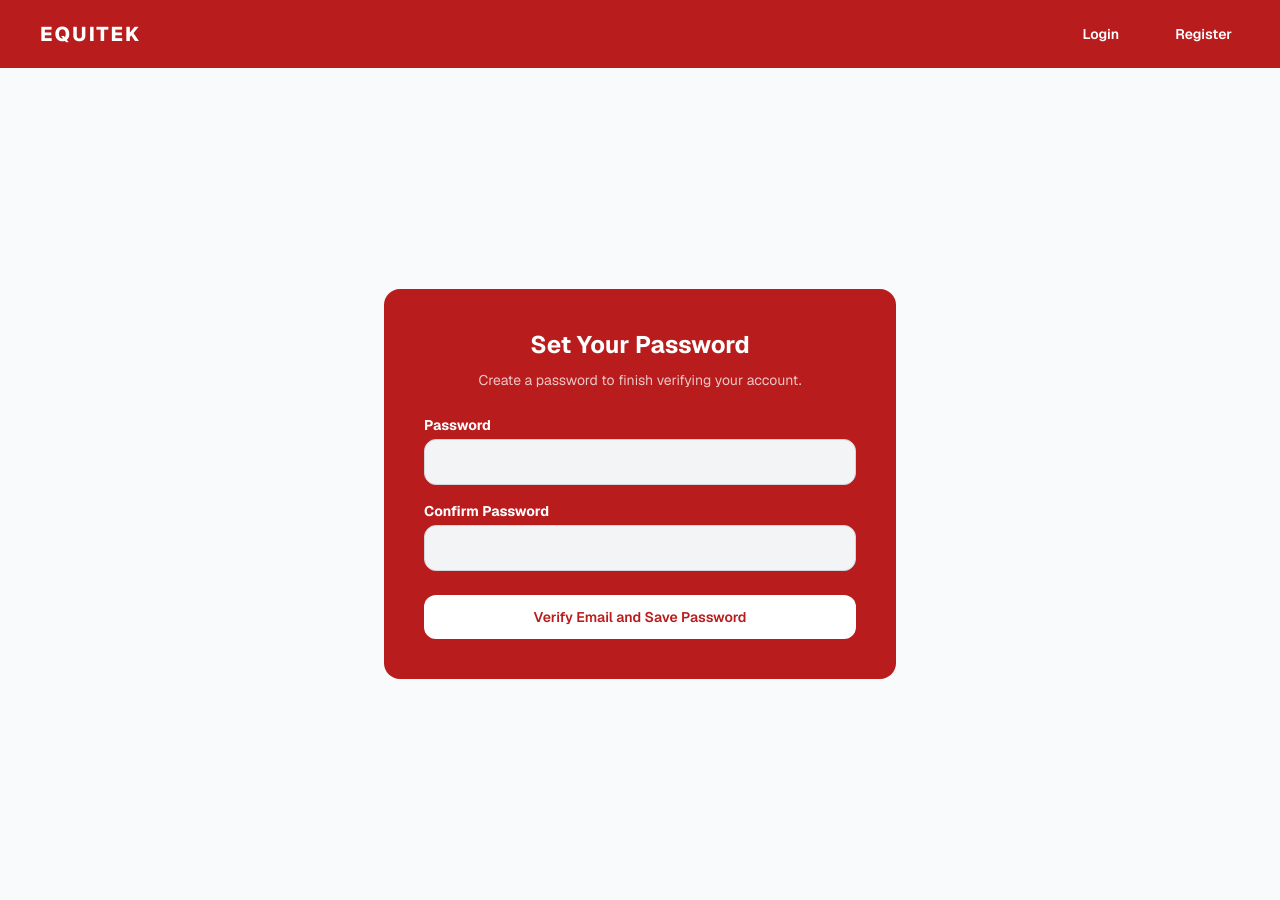
Test: Verify Email Page › shows success fallback when submit response has no message
Check: the heading "Set Your Password" is shown, box [530,329,750,360]
Type "Strong#123" into the password field labelled "Password" at (640, 462), box [424,439,856,485]
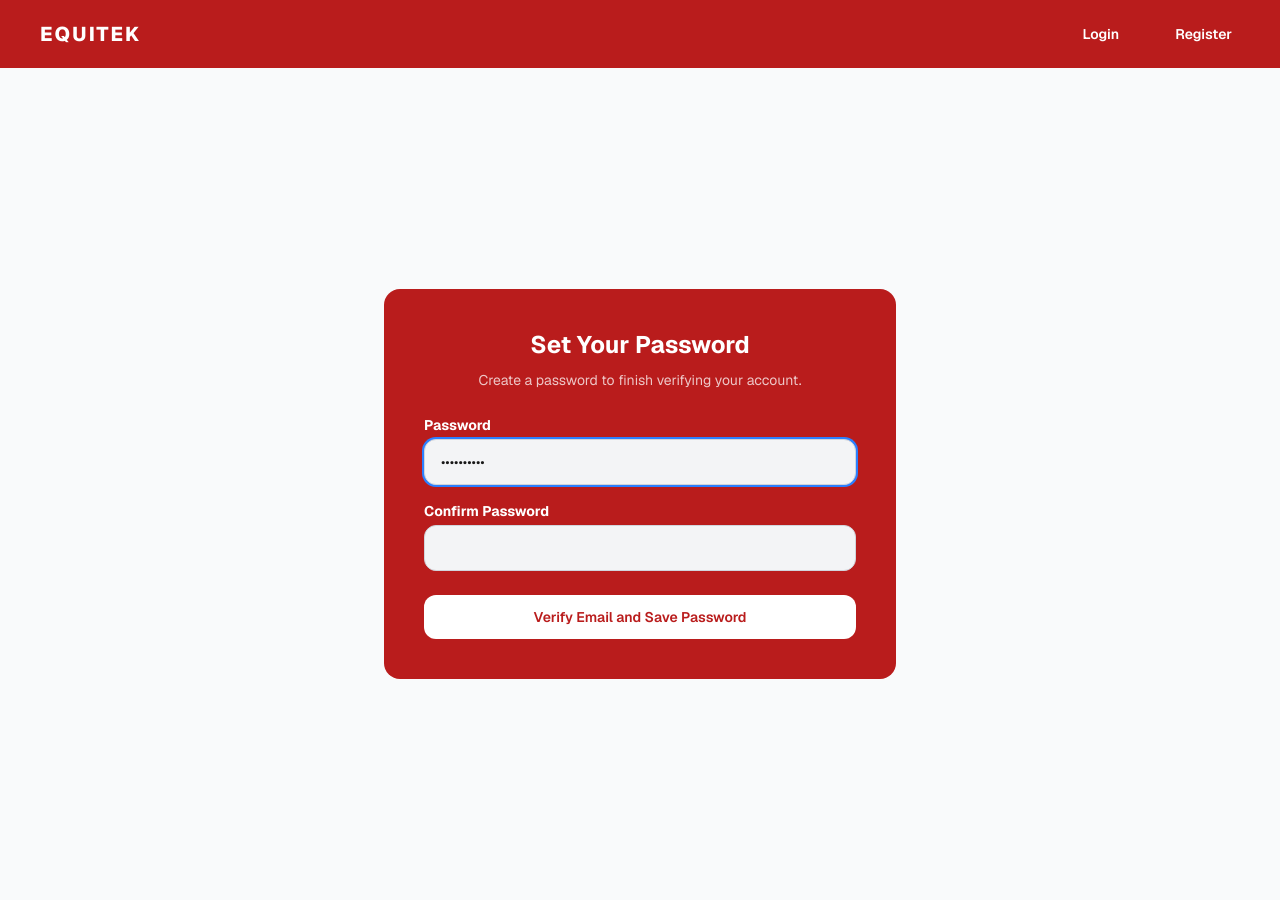
Type "Strong#123" into the password field labelled "Confirm Password" at (640, 548), box [424,525,856,571]
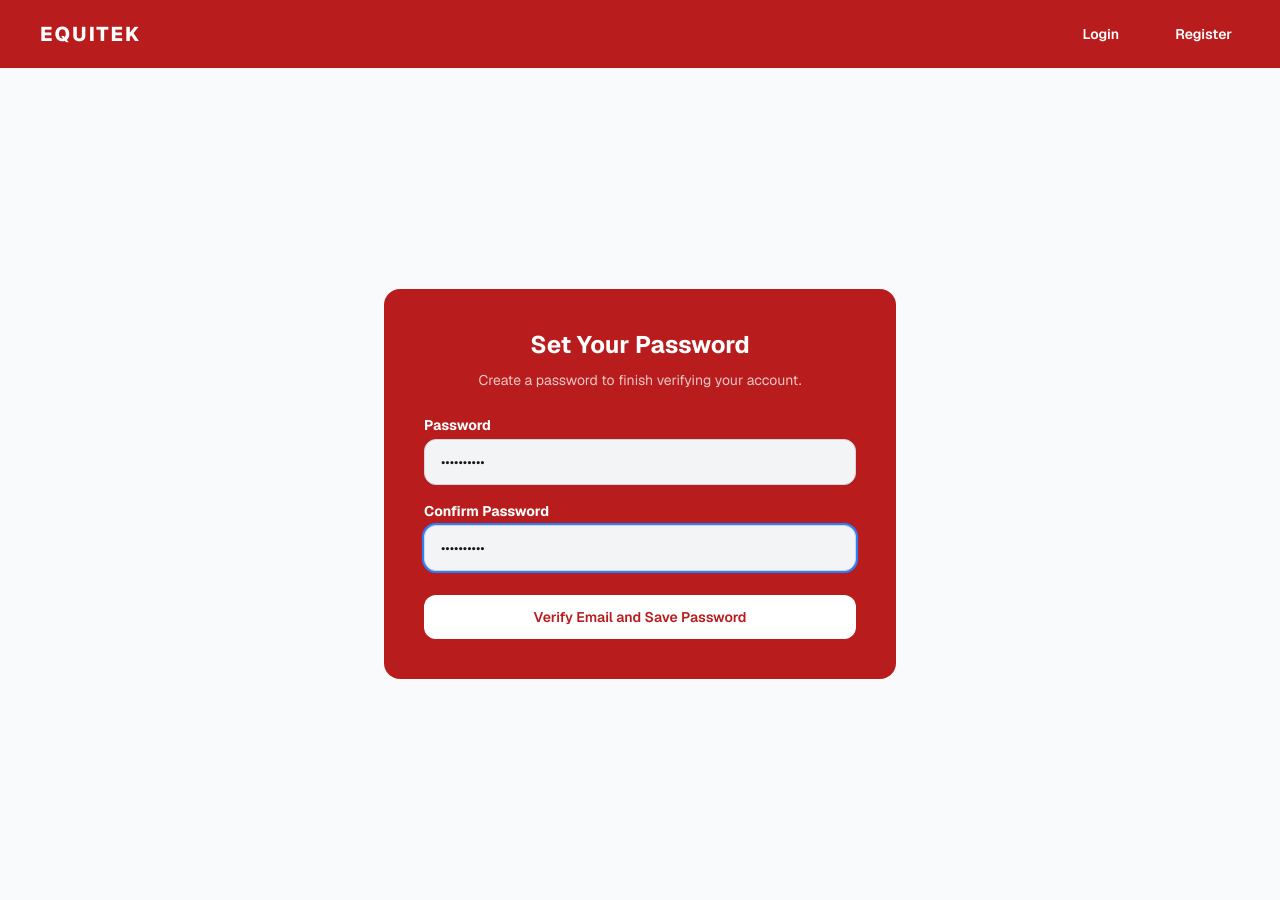
Click the button "Verify Email and Save Password" at (640, 617), box [424,595,856,639]
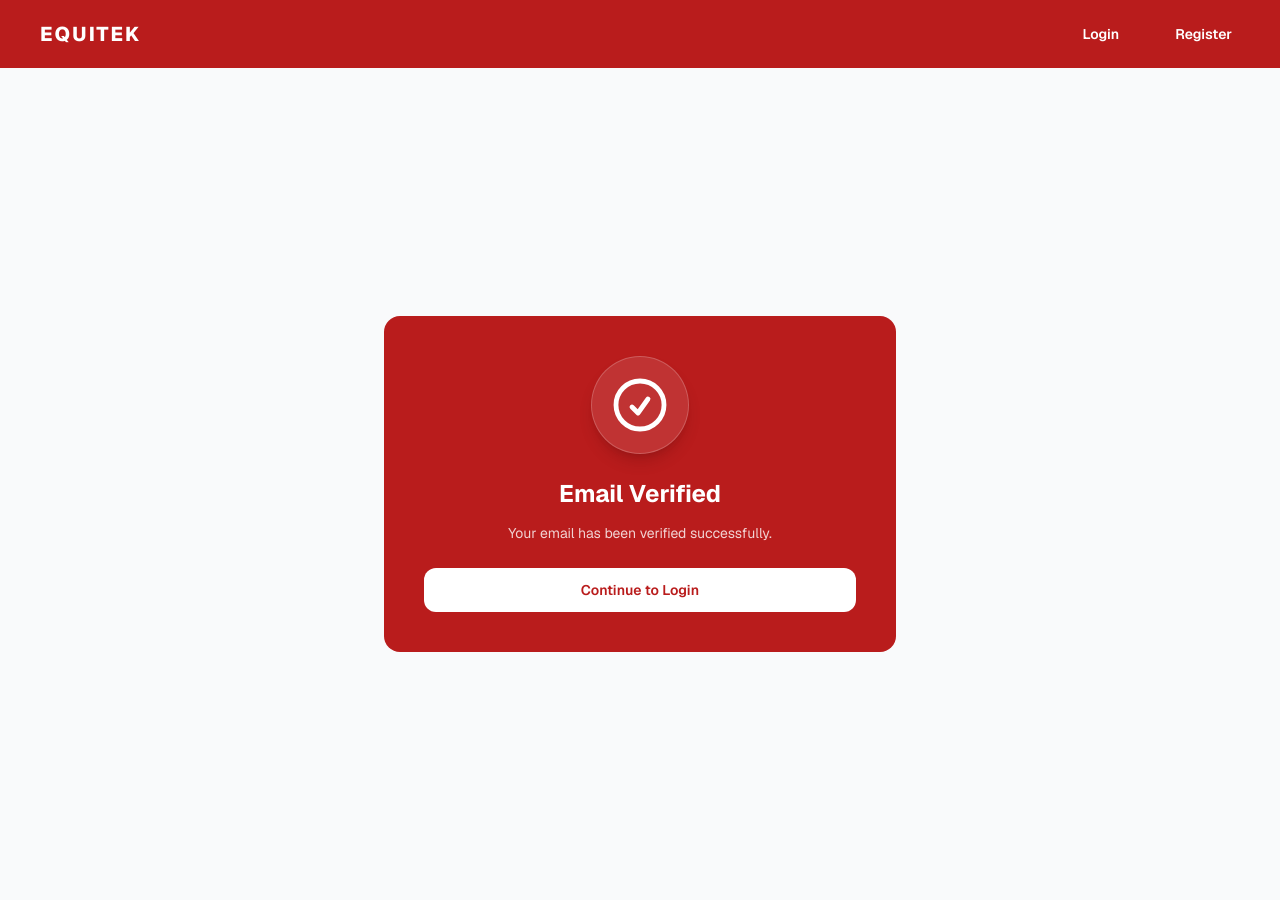
Check: the text "Your email has been verified successfully." is shown, box [508,522,772,544]
